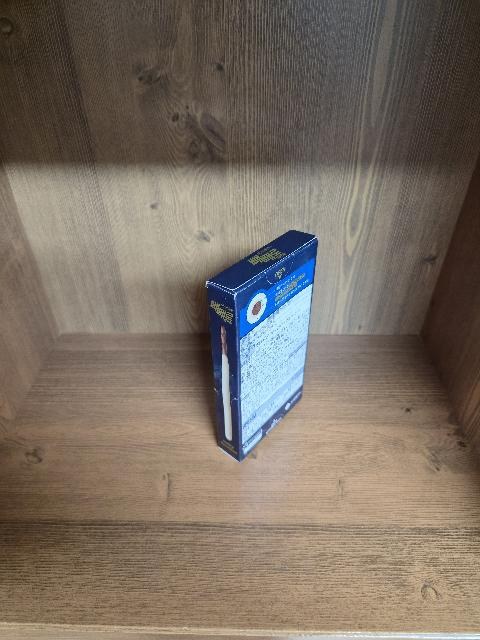pepero: (205, 230, 319, 462)
